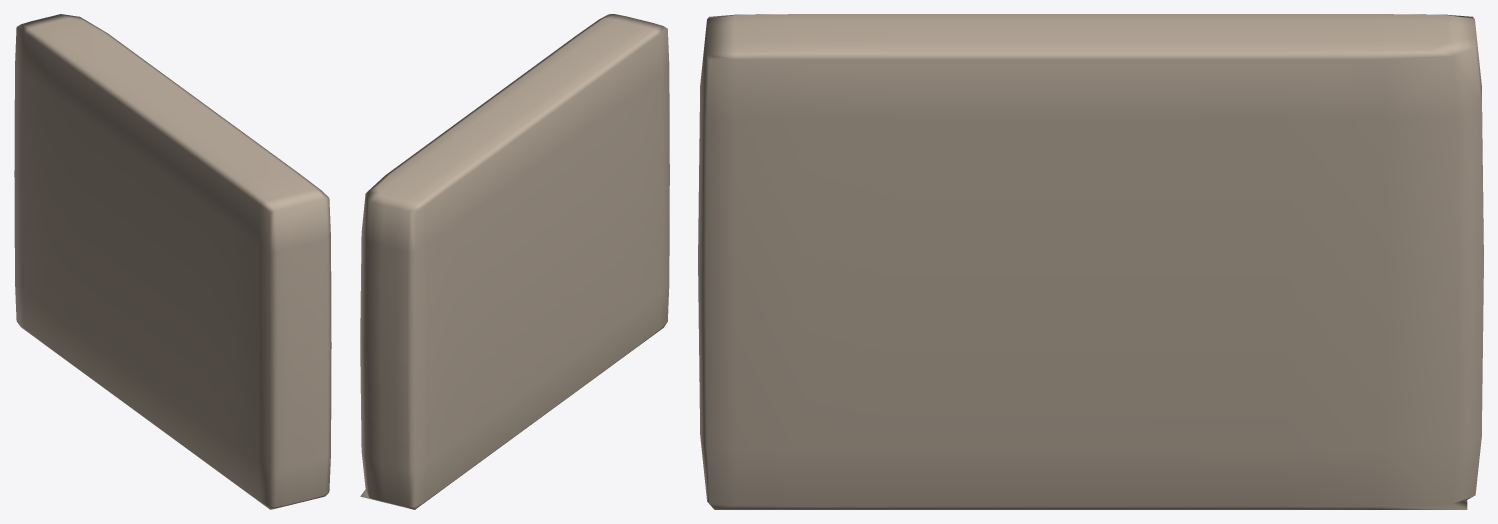
The model's file is MUR.fbx.
3 renders of one model, left to right at view 1: azimuth 30°, elevation 25°; view 2: azimuth 150°, elevation 25°; view 3: azimuth 270°, elevation 25°, orthographic. The views are drawn at different scales.
Visible parts, largest first — view 1: MUR; view 2: MUR; view 3: MUR.
Part boxes in pixels (x1=…): MUR: x1=14, y1=14, x2=331, y2=509; MUR: x1=360, y1=14, x2=669, y2=509; MUR: x1=698, y1=14, x2=1483, y2=509.
Size of the model in its own units: 0.5193 by 2.2 by 3.42.
